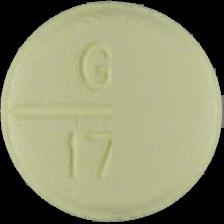21695-497: (0, 0, 224, 224)
